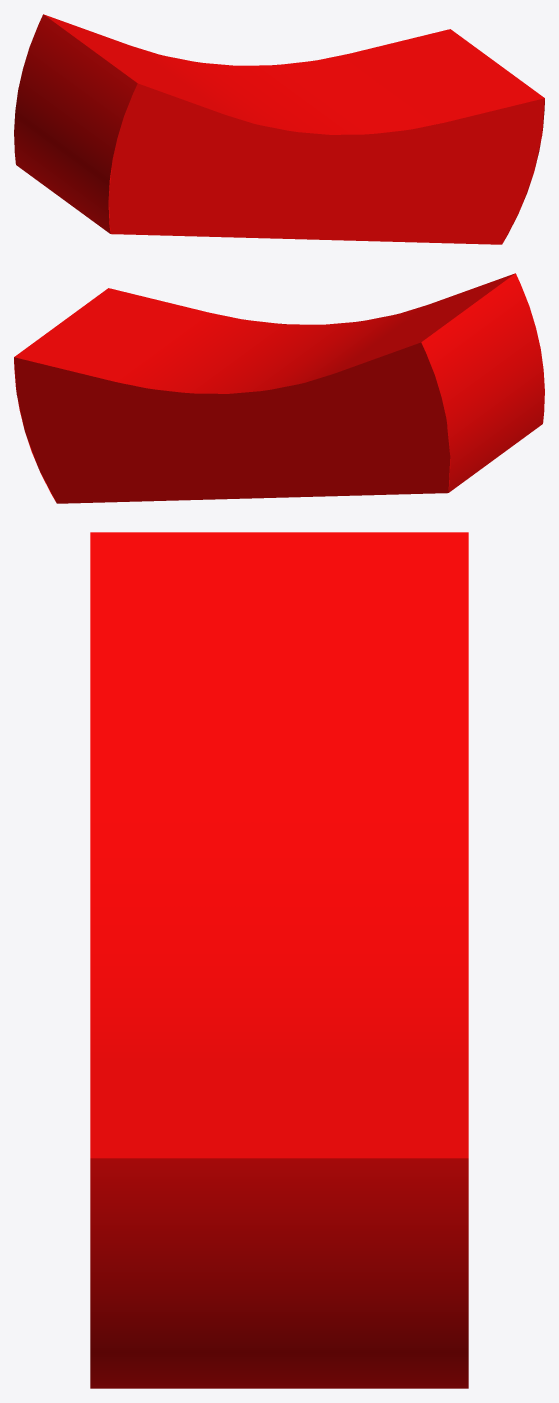
The model's file is button_on.obj.
3 views of the same model, one above another, from view 1: azimuth 30°, elevation 25°; view 2: azimuth 150°, elevation 25°; view 3: azimuth 270°, elevation 25° (orthographic). The views are drawn at different scales.
Parts seen in each view (by area): view 1: 1_DC_Shell; view 2: 1_DC_Shell; view 3: 1_DC_Shell.
Part boxes in pixels (<box>): 1_DC_Shell: <box>14,14,544,244</box>; 1_DC_Shell: <box>14,273,544,503</box>; 1_DC_Shell: <box>90,532,468,1388</box>.
Bounding box in the file's own units: 20 × 10.96 × 7.5.
